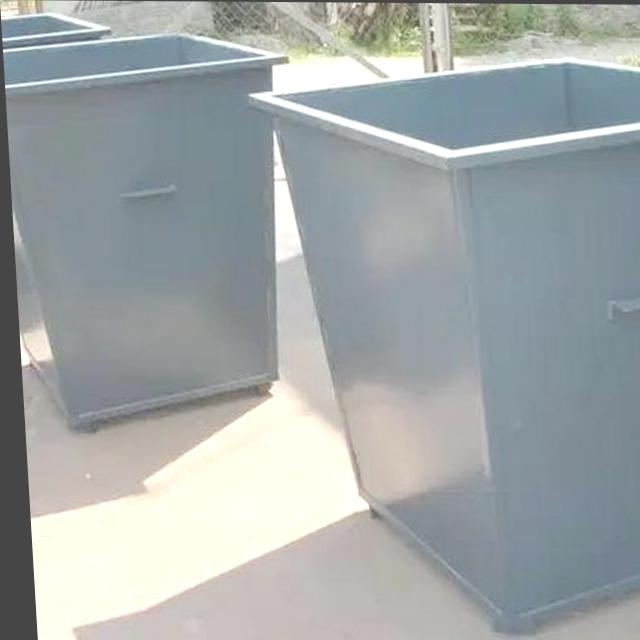Trash_Can_Empty: (246, 59, 640, 629), (3, 32, 289, 434)
